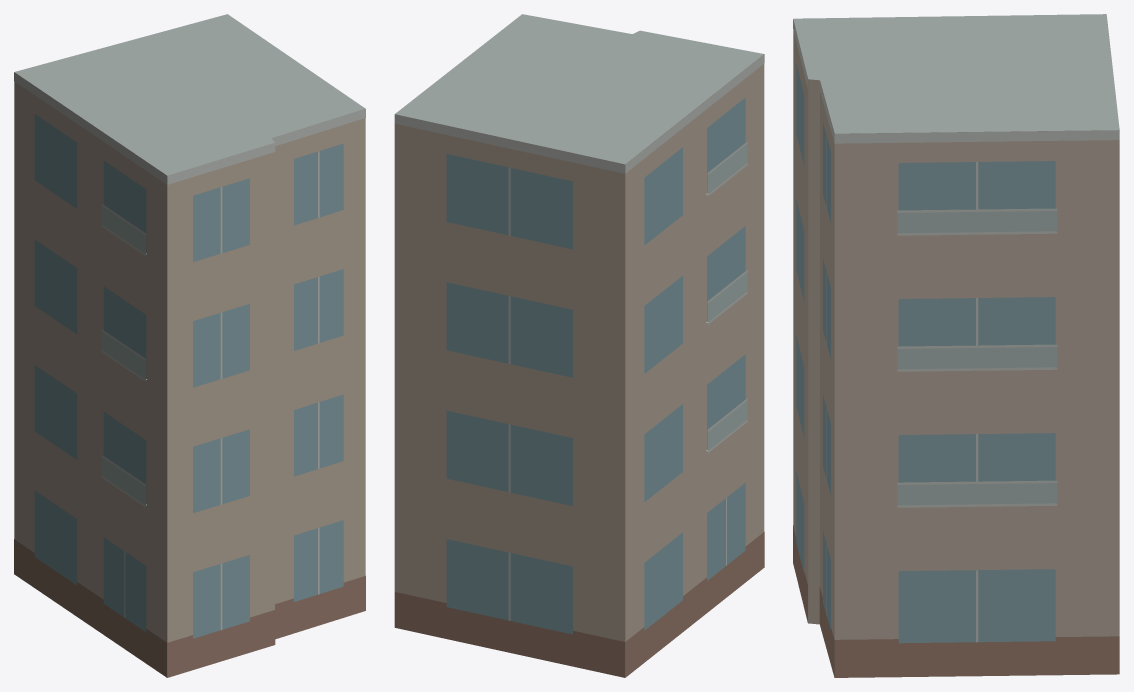
File: survey-upis-32965895.glb
3 renders of one model, left to right at view 1: azimuth 30°, elevation 25°; view 2: azimuth 150°, elevation 25°; view 3: azimuth 270°, elevation 25°, orthographic. The views are drawn at different scales.
Parts seen in each view (by area): view 1: survey-upis-32965895.tmp; view 2: survey-upis-32965895.tmp; view 3: survey-upis-32965895.tmp.
Part boxes in pixels (left/top/right/bottom): survey-upis-32965895.tmp: left=14, top=14, right=365, bottom=677; survey-upis-32965895.tmp: left=394, top=14, right=764, bottom=677; survey-upis-32965895.tmp: left=793, top=14, right=1119, bottom=677.
Bounding box in the file's own units: 6.28 × 13.3 × 7.24.
